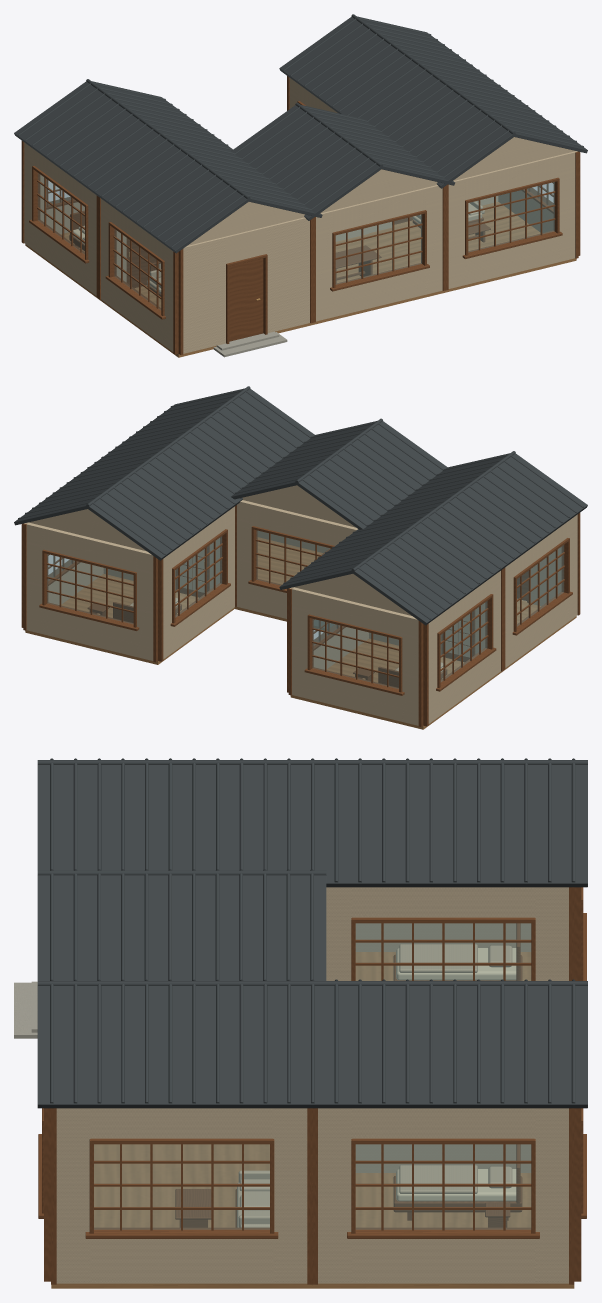
Rendered from bld-teacourt-626acfb4bff0.glb.
3 renders of one model, top to bottom at view 1: azimuth 30°, elevation 25°; view 2: azimuth 150°, elevation 25°; view 3: azimuth 270°, elevation 25°, orthographic. The views are drawn at different scales.
Visible parts, largest first — view 1: surface_graphite, surface_linen, surface_walnut, surface_Optical_smoke, surface_oak, surface_stone; view 2: surface_graphite, surface_linen, surface_walnut, surface_Optical_smoke, surface_oak; view 3: surface_graphite, surface_linen, surface_Optical_smoke, surface_walnut, surface_oak, surface_ivory, surface_stone.
Boxes of the visible parts, x1=… form: surface_graphite: x1=14, y1=14, x2=587, y2=253; surface_linen: x1=24, y1=78, x2=577, y2=353; surface_walnut: x1=21, y1=76, x2=580, y2=354; surface_Optical_smoke: x1=38, y1=173, x2=554, y2=309; surface_oak: x1=25, y1=202, x2=576, y2=357; surface_stone: x1=213, y1=331, x2=287, y2=357; surface_graphite: x1=14, y1=386, x2=587, y2=625; surface_linen: x1=24, y1=485, x2=577, y2=725; surface_walnut: x1=21, y1=505, x2=580, y2=726; surface_Optical_smoke: x1=47, y1=530, x2=563, y2=688; surface_oak: x1=25, y1=537, x2=576, y2=729; surface_graphite: x1=37, y1=758, x2=587, y2=1108; surface_linen: x1=56, y1=887, x2=568, y2=1283; surface_Optical_smoke: x1=94, y1=923, x2=530, y2=1229; surface_walnut: x1=38, y1=887, x2=586, y2=1284; surface_oak: x1=51, y1=952, x2=574, y2=1288; surface_ivory: x1=396, y1=948, x2=516, y2=1201; surface_stone: x1=14, y1=981, x2=37, y2=1038.
Bounding box in the file's own units: 12.45 × 4.25 × 8.78.
Materials: 11 (4 with a texture image).
